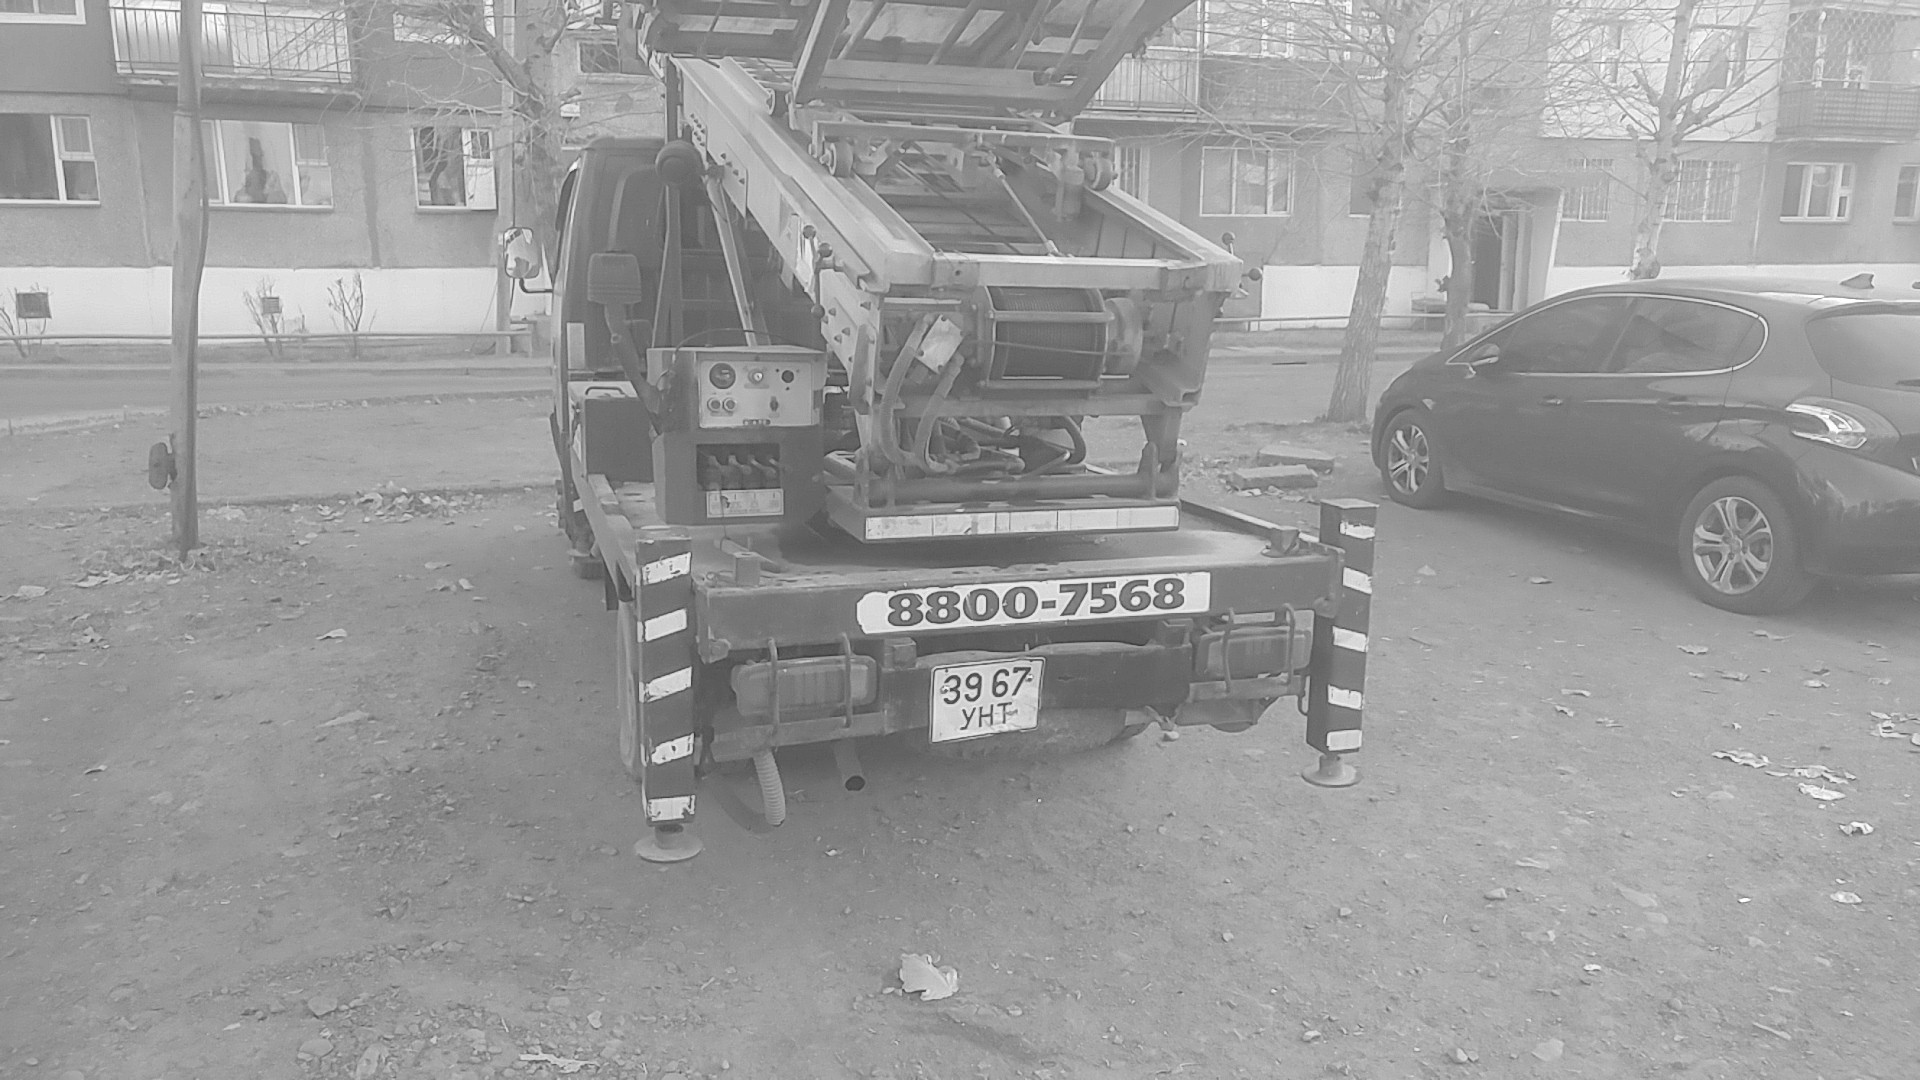3: (944, 673, 962, 704)
6: (990, 668, 1010, 698)
7: (1012, 665, 1031, 697)
9: (965, 672, 982, 703)
n: (978, 704, 996, 729)
plate: (926, 655, 1046, 744)
t: (995, 701, 1013, 726)
u: (960, 706, 977, 731)
